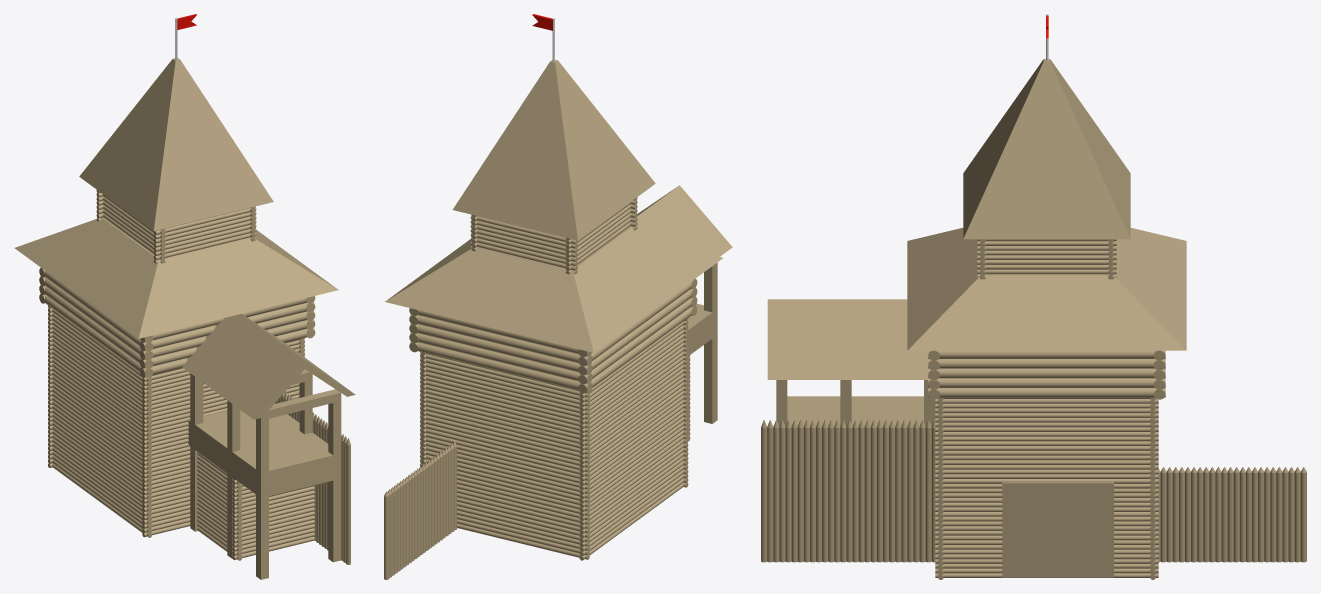
The model's file is big_grad_n.glb.
3 renders of one model, left to right at view 1: azimuth 30°, elevation 25°; view 2: azimuth 150°, elevation 25°; view 3: azimuth 270°, elevation 25°, orthographic. The views are drawn at different scales.
Parts seen in each view (by area): view 1: Цилиндр.011; view 2: Цилиндр.011; view 3: Цилиндр.011.
Part boxes in pixels (x1=…): Цилиндр.011: x1=14, y1=14, x2=355, y2=579; Цилиндр.011: x1=384, y1=14, x2=732, y2=579; Цилиндр.011: x1=761, y1=14, x2=1306, y2=579.
Bounding box in the file's own units: 10 × 22.15 × 21.
